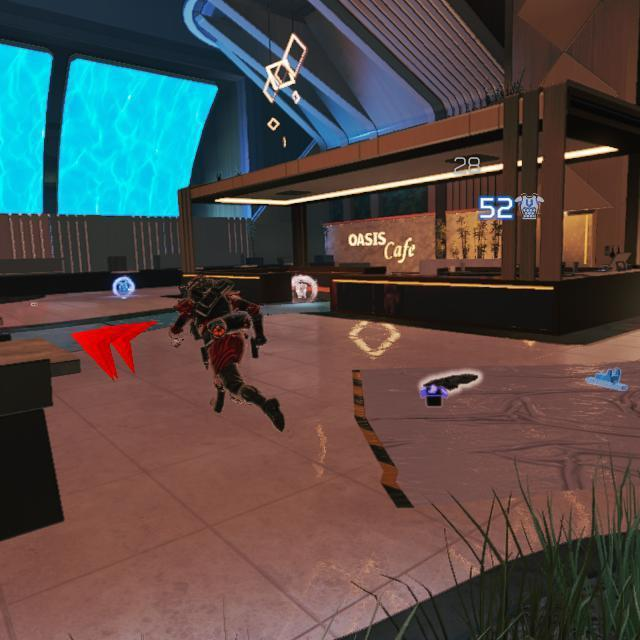avatar: (161, 277, 285, 433)
